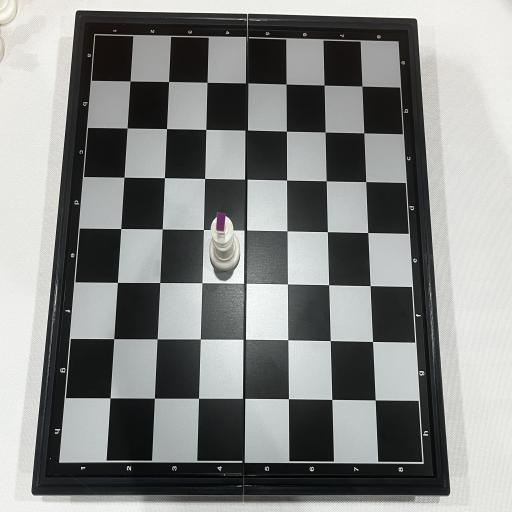White king: (210, 212, 240, 271)
